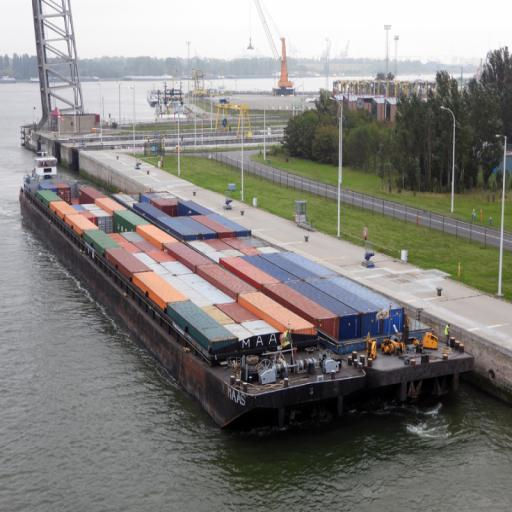tugboat: (21, 149, 81, 217)
